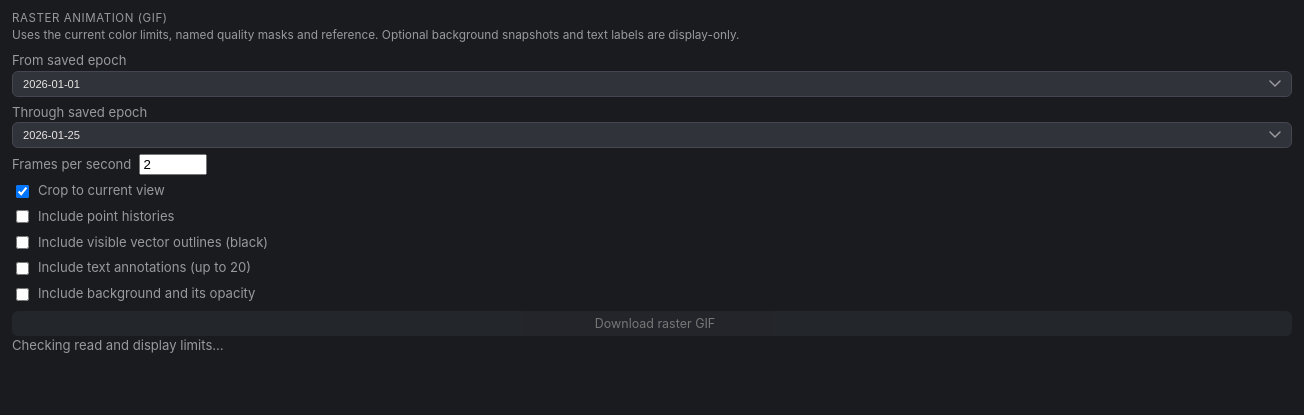
Scenario: vector outline limits › states the per-layer feature limit in the help line
The image size is (1304, 415).
Click the checkbox named "Include vector outlines in GIF" at (22, 243), box [16,236,29,249]
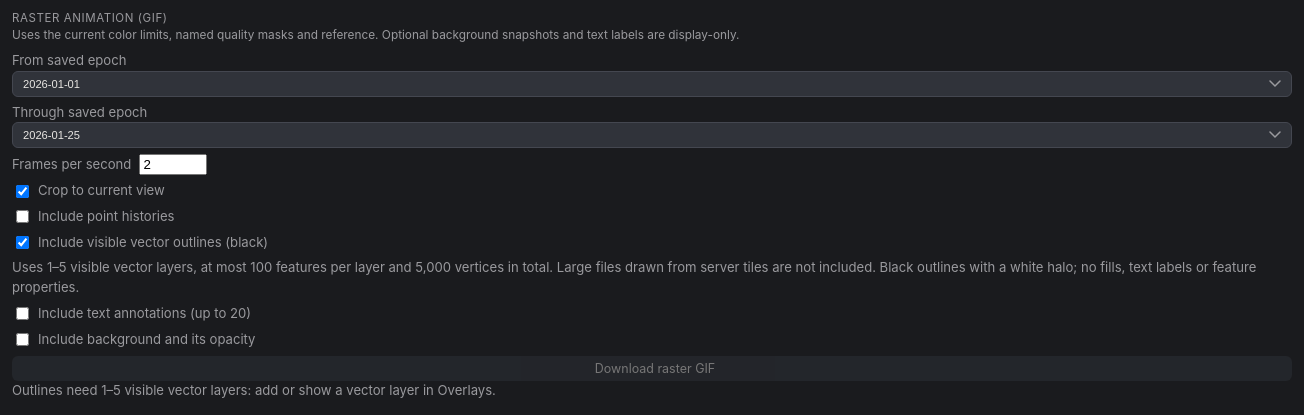
Expected: the text "at most 100 features per layer and 5,000 vertices in total" is shown, [12,260,1256,295]
